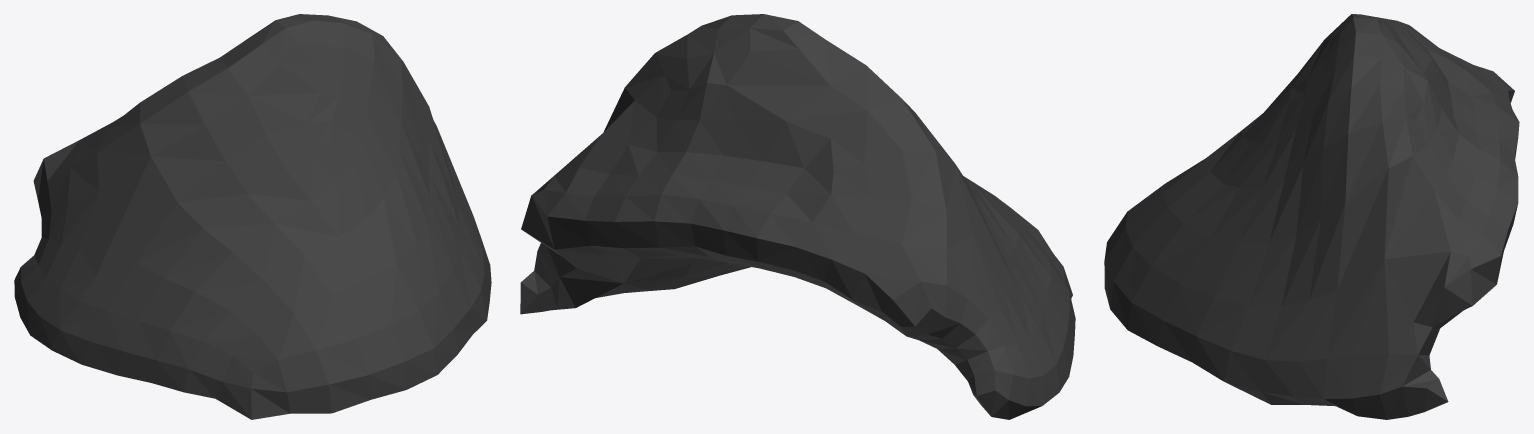
File: RFL_P3.glb
3 renders of one model, left to right at view 1: azimuth 30°, elevation 25°; view 2: azimuth 150°, elevation 25°; view 3: azimuth 270°, elevation 25°, orthographic. The views are drawn at different scales.
Parts seen in each view (by area): view 1: RFL_P3; view 2: RFL_P3; view 3: RFL_P3.
Part boxes in pixels (x1,y1,x2,y2): RFL_P3: (14,14,491,419); RFL_P3: (520,14,1075,419); RFL_P3: (1104,14,1519,419).
Bounding box in the file's own units: 13.62 × 8.81 × 10.61.
Materials: 1 (1 with a texture image).
